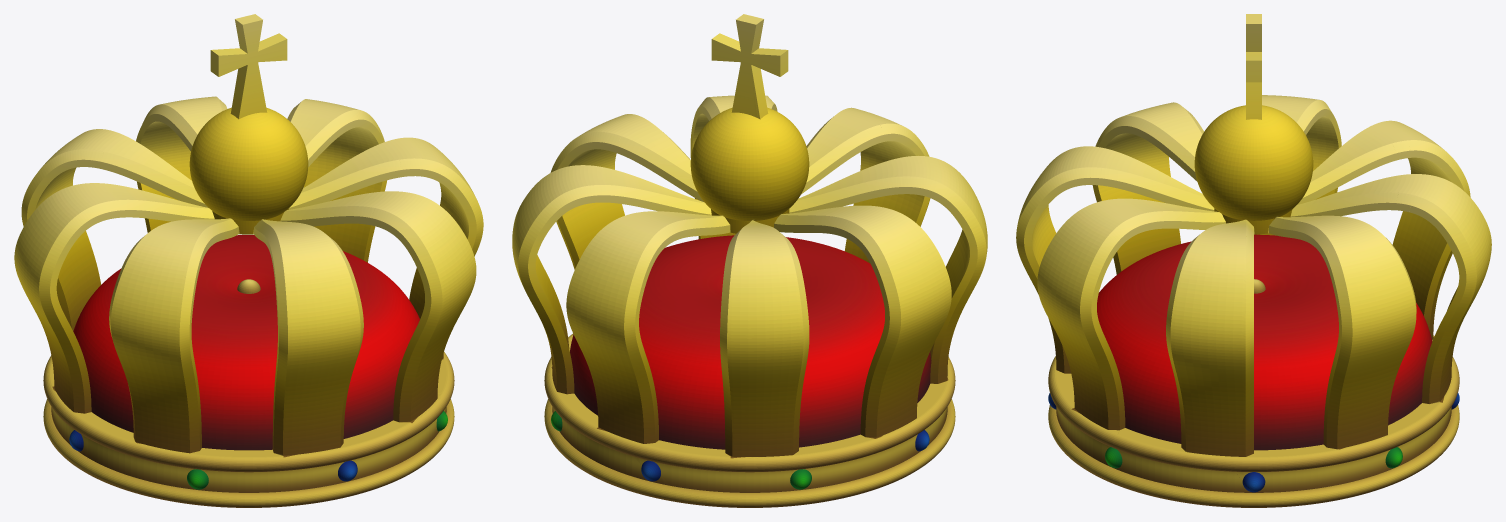
Rendered from crown.fbx.
3 renders of one model, left to right at view 1: azimuth 30°, elevation 25°; view 2: azimuth 150°, elevation 25°; view 3: azimuth 270°, elevation 25°, orthographic.
Parts seen in each view (by area): view 1: crown; view 2: crown; view 3: crown.
Part boxes in pixels (left/top/right/bottom): crown: left=14, top=14, right=483, bottom=507; crown: left=512, top=14, right=987, bottom=507; crown: left=1016, top=14, right=1491, bottom=507.
Bounding box in the file's own units: 36.08 × 33.86 × 36.08.
